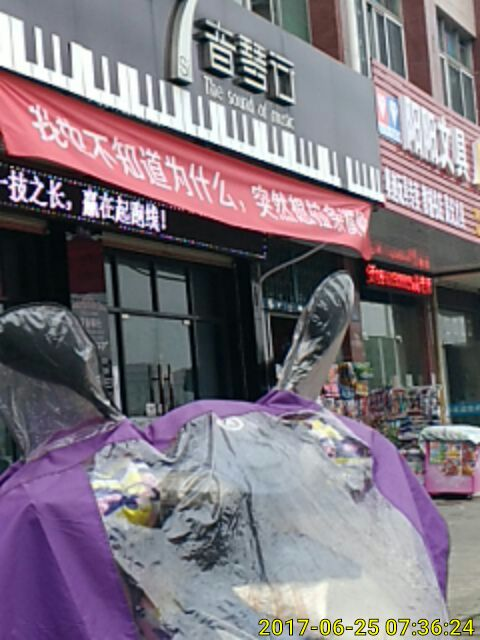window_shielding: (367, 55, 479, 254)
